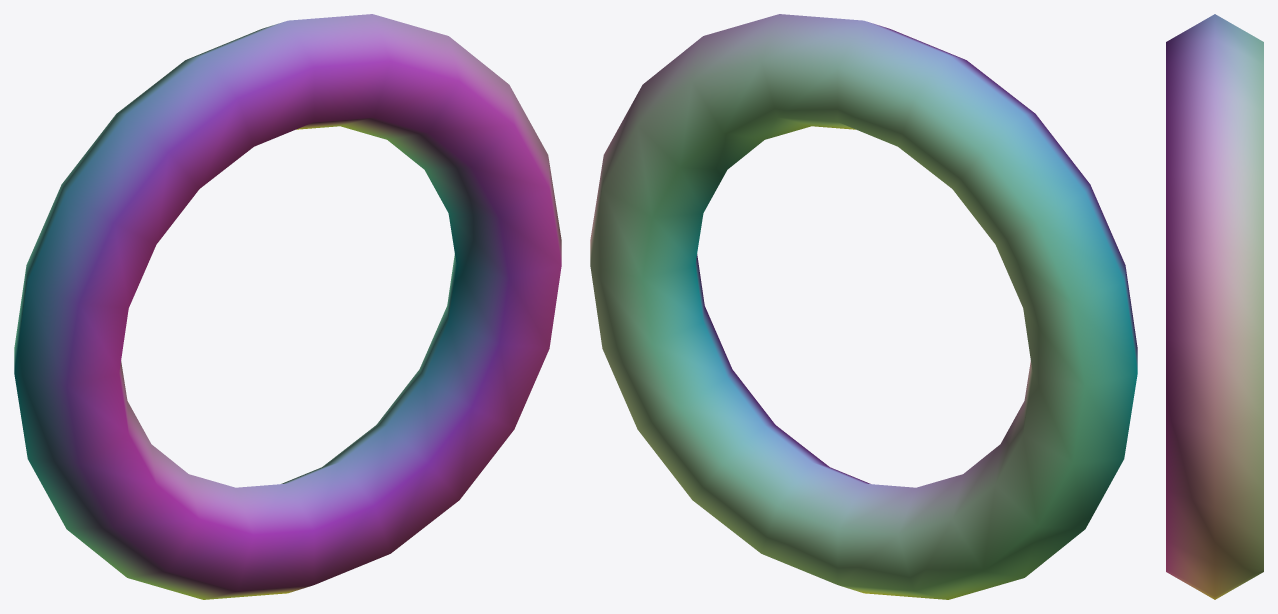
Rendered from att_ring.glb.
3 renders of one model, left to right at view 1: azimuth 30°, elevation 25°; view 2: azimuth 150°, elevation 25°; view 3: azimuth 270°, elevation 25°, orthographic. The views are drawn at different scales.
Visible parts, largest first — view 1: att_ring_mesh; view 2: att_ring_mesh; view 3: att_ring_mesh.
Boxes of the visible parts, bbox=[...] form: att_ring_mesh: bbox=[14, 14, 561, 599]; att_ring_mesh: bbox=[590, 14, 1137, 599]; att_ring_mesh: bbox=[1166, 14, 1263, 599].
Bounding box in the file's own units: 0.0334 × 0.0334 × 0.00554.
